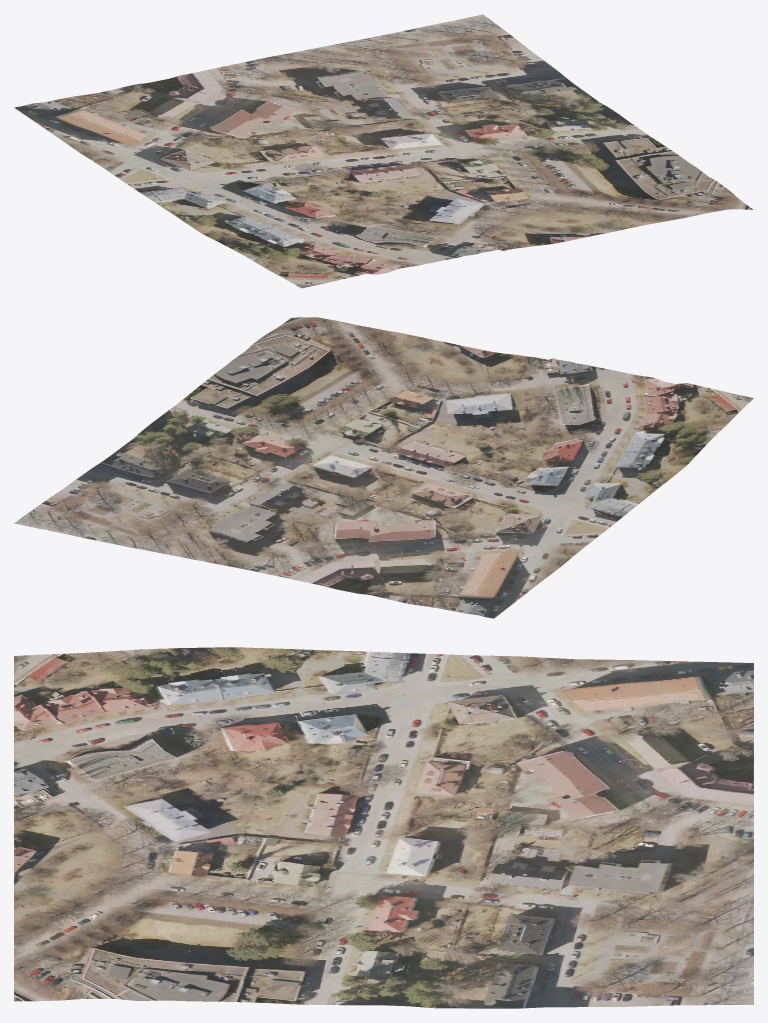
File: CM_Terrain_24485954_6820818.fbx
3 views of the same model, one above another, from view 1: azimuth 30°, elevation 25°; view 2: azimuth 150°, elevation 25°; view 3: azimuth 270°, elevation 25° (orthographic). The views are drawn at different scales.
Visible parts, largest first — view 1: CM_Terrain_24485954_6820818_LOD0; view 2: CM_Terrain_24485954_6820818_LOD0; view 3: CM_Terrain_24485954_6820818_LOD0.
Boxes of the visible parts, box(x1,y1,x2,y2) form: CM_Terrain_24485954_6820818_LOD0: box(14, 14, 753, 288); CM_Terrain_24485954_6820818_LOD0: box(14, 317, 753, 618); CM_Terrain_24485954_6820818_LOD0: box(14, 647, 753, 1008).
Size of what is drawn, in the model's own units: 205 by 15.72 by 205.
